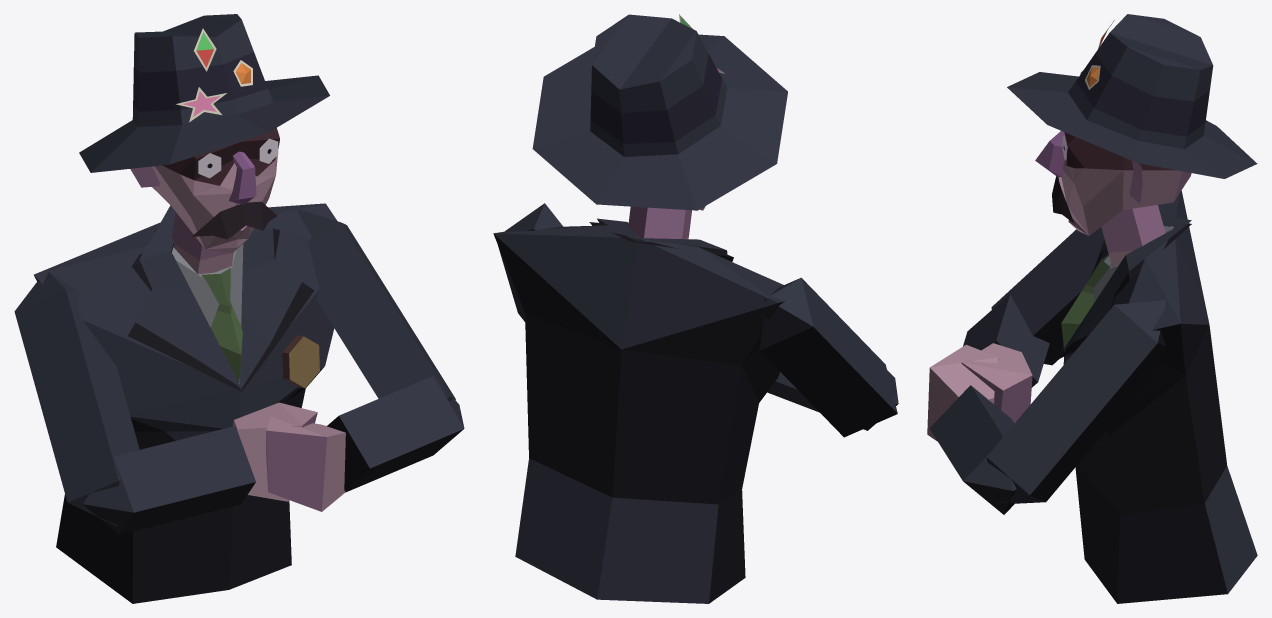
The model's file is Character04.fbx.
The picture shows the model from 3 angles, left to right: view 1: azimuth 30°, elevation 25°; view 2: azimuth 150°, elevation 25°; view 3: azimuth 270°, elevation 25°; orthographic projection. The views are drawn at different scales.
Parts seen in each view (by area): view 1: Mesh_Character04; view 2: Mesh_Character04; view 3: Mesh_Character04.
Boxes of the visible parts, x1=… form: Mesh_Character04: x1=14, y1=14, x2=464, y2=603; Mesh_Character04: x1=493, y1=14, x2=898, y2=603; Mesh_Character04: x1=927, y1=14, x2=1257, y2=603.
Size of the model in its own units: 9.07 by 6.89 by 12.49.
